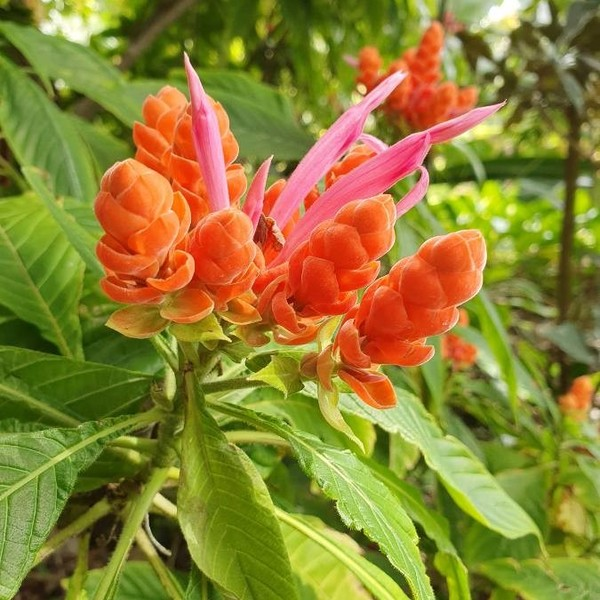obstacle: (10, 55, 472, 576)
